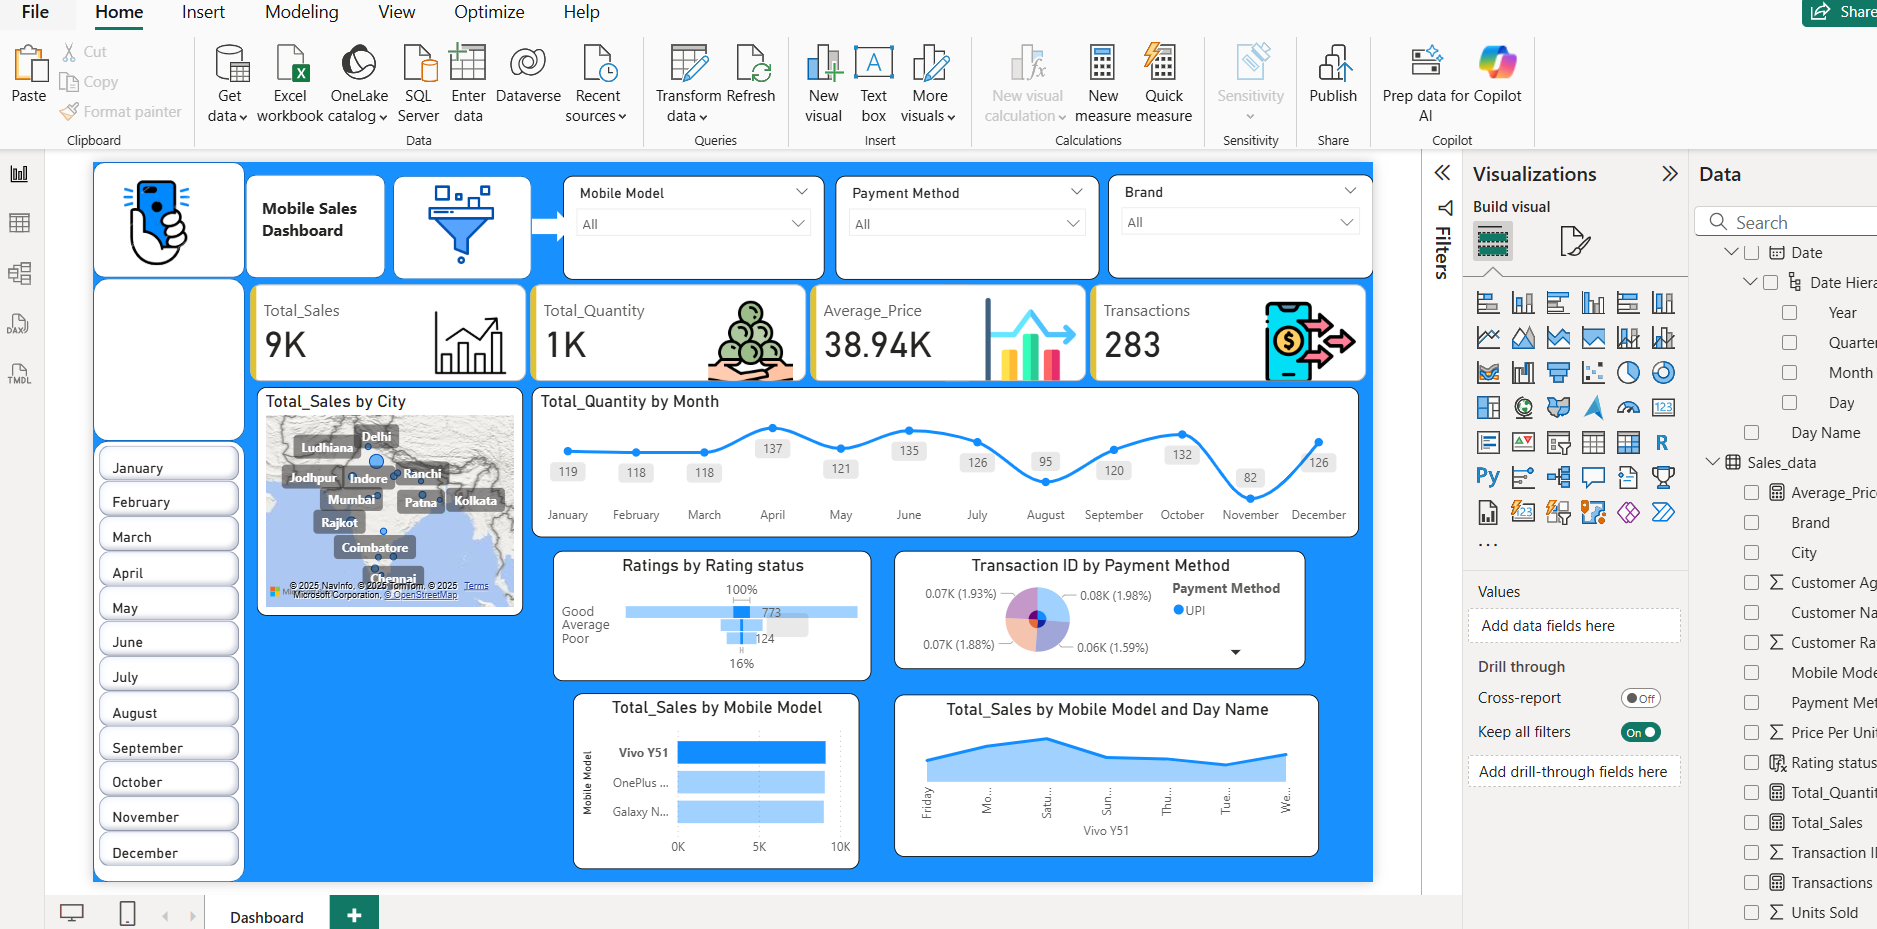

Layout of this report page (visuals, bound fields, positions):
{"tool":"powerbi","page":{"name":"Dashboard","canvas":[1280,720],"ordinal":0},"visuals":[{"type":"shape","box":[0,0,142.4,108.6],"z":0},{"type":"image","box":[0,0,127.9,127.9],"z":1000},{"type":"shape","box":[0,115.8,152,162.9],"z":2000},{"type":"shape","box":[0,278.7,152,441.6],"z":3000},{"type":"advancedSlicerVisual","fields":{"Values":["Custom_Calendar.Date.Variation.Date Hierarchy.Month"]},"box":[1.2,278.7,150.8,441.6],"z":4000},{"type":"cardVisual","fields":{"Data":["Sales_data.Total_Sales","Sales_data.Total_Quantity","Sales_data.Average_Price","Sales_data.Transactions"]},"box":[152,117,1128,107.4],"z":5000},{"type":"slicer","fields":{"Values":["Sales_data.Mobile Model"]},"box":[459.7,1.2,241.3,107.4],"z":6000},{"type":"slicer","fields":{"Values":["Sales_data.Payment Method"]},"box":[716.6,4.8,264.2,103.8],"z":7000},{"type":"slicer","fields":{"Values":["Sales_data.Brand"]},"box":[996.5,8.4,270.2,100.1],"z":8000},{"type":"shape","box":[300.4,0,138.7,108.6],"z":9000},{"type":"image","box":[278.7,8.4,182.2,90.5],"z":10000},{"type":"shape","box":[419.8,49.5,41,31.4],"z":11000},{"type":"shape","box":[152,0,139.9,108.6],"z":12000},{"type":"textbox","box":[164.1,30.2,117,68.8],"z":13000},{"type":"map","fields":{"Category":["Sales_data.City"],"Size":["Sales_data.Total_Sales"]},"box":[164.1,224.4,255.8,250.9],"z":14000},{"type":"lineChart","fields":{"Category":["Custom_Calendar.Date.Variation.Date Hierarchy.Month"],"Y":["Sales_data.Total_Quantity"]},"box":[438.8,225,827.5,150],"z":15000},{"type":"funnel","title":" Ratings by Rating status","fields":{"Y":["Sum(Sales_data.Customer Ratings)"],"Category":["Sales_data.Rating status"]},"box":[440.4,388.5,381.2,126.7],"z":16000},{"type":"pieChart","title":" Transaction ID by Payment Method","fields":{"Y":["CountNonNull(Sales_data.Transaction ID)"],"Category":["Sales_data.Payment Method"]},"box":[834.9,389.7,431.9,126.7],"z":17000},{"type":"clusteredBarChart","fields":{"Y":["Sales_data.Total_Sales"],"Category":["Sales_data.Mobile Model"]},"box":[440.4,532,381.2,174.9],"z":18000},{"type":"areaChart","fields":{"Category":["Sales_data.Mobile Model","Custom_Calendar.Day Name"],"Y":["Sales_data.Total_Sales"]},"box":[834.9,532,431.9,170.1],"z":19000},{"type":"tableEx","fields":{"Values":["Sales_data.Brand","Sales_data.Total_Sales","Sales_data.Transactions"]},"box":[164.1,485,255.8,235.3],"z":20000},{"type":"pageNavigator","box":[6,142.4,136.3,119.4],"z":21000}]}

Visuals, with their boxes on the page's 1280x720 design canvas (x1, y1, x2, y2). These are canvas units, not pixel positions in the 1877x929 screenshot, which may show the page scaled, cropped or inside an application window:
shape: bbox=[0, 0, 142, 109]
image: bbox=[0, 0, 128, 128]
shape: bbox=[0, 116, 152, 279]
shape: bbox=[0, 279, 152, 720]
advancedSlicerVisual - Custom_Calendar.Date.Variation.Date Hierarchy.Month: bbox=[1, 279, 152, 720]
cardVisual - Sales_data.Total_Sales x Sales_data.Total_Quantity: bbox=[152, 117, 1280, 224]
slicer - Sales_data.Mobile Model: bbox=[460, 1, 701, 109]
slicer - Sales_data.Payment Method: bbox=[717, 5, 981, 109]
slicer - Sales_data.Brand: bbox=[996, 8, 1267, 108]
shape: bbox=[300, 0, 439, 109]
image: bbox=[279, 8, 461, 99]
shape: bbox=[420, 50, 461, 81]
shape: bbox=[152, 0, 292, 109]
textbox: bbox=[164, 30, 281, 99]
map - Sales_data.City x Sales_data.Total_Sales: bbox=[164, 224, 420, 475]
lineChart - Custom_Calendar.Date.Variation.Date Hierarchy.Month x Sales_data.Total_Quantity: bbox=[439, 225, 1266, 375]
" Ratings by Rating status" funnel: bbox=[440, 388, 822, 515]
" Transaction ID by Payment Method" pieChart: bbox=[835, 390, 1267, 516]
clusteredBarChart - Sales_data.Total_Sales x Sales_data.Mobile Model: bbox=[440, 532, 822, 707]
areaChart - Sales_data.Mobile Model x Custom_Calendar.Day Name: bbox=[835, 532, 1267, 702]
tableEx - Sales_data.Brand x Sales_data.Total_Sales: bbox=[164, 485, 420, 720]
pageNavigator: bbox=[6, 142, 142, 262]
